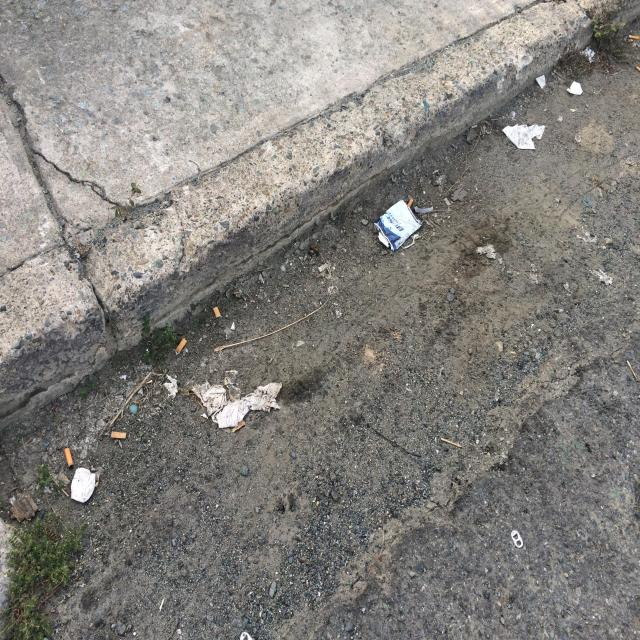litter: (192, 380, 282, 427), (374, 199, 422, 251), (502, 124, 546, 150), (567, 80, 583, 95), (511, 530, 524, 548), (175, 338, 187, 355), (64, 448, 74, 468), (111, 431, 127, 438), (328, 285, 339, 294), (213, 307, 221, 318), (408, 198, 414, 208), (629, 34, 640, 39), (576, 135, 581, 142), (636, 66, 640, 73)
